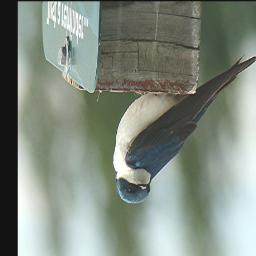Swallow: (113, 54, 256, 204)
